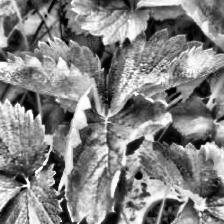Powdery Mildew Leaf: (64, 85, 173, 224), (106, 27, 224, 116), (0, 35, 107, 114), (163, 196, 224, 224)
